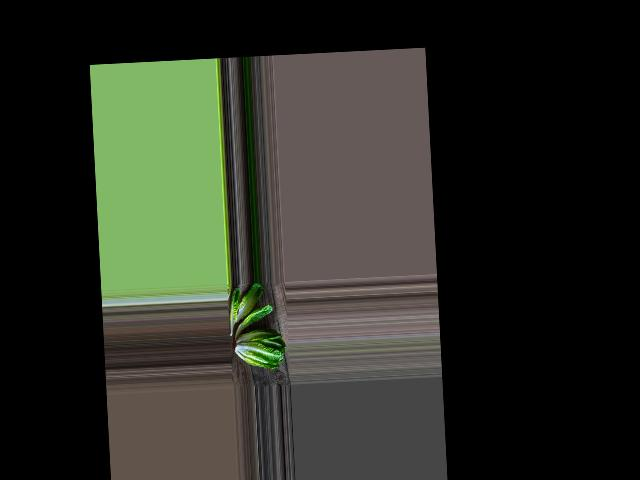lettuce: (234, 325, 286, 372)
